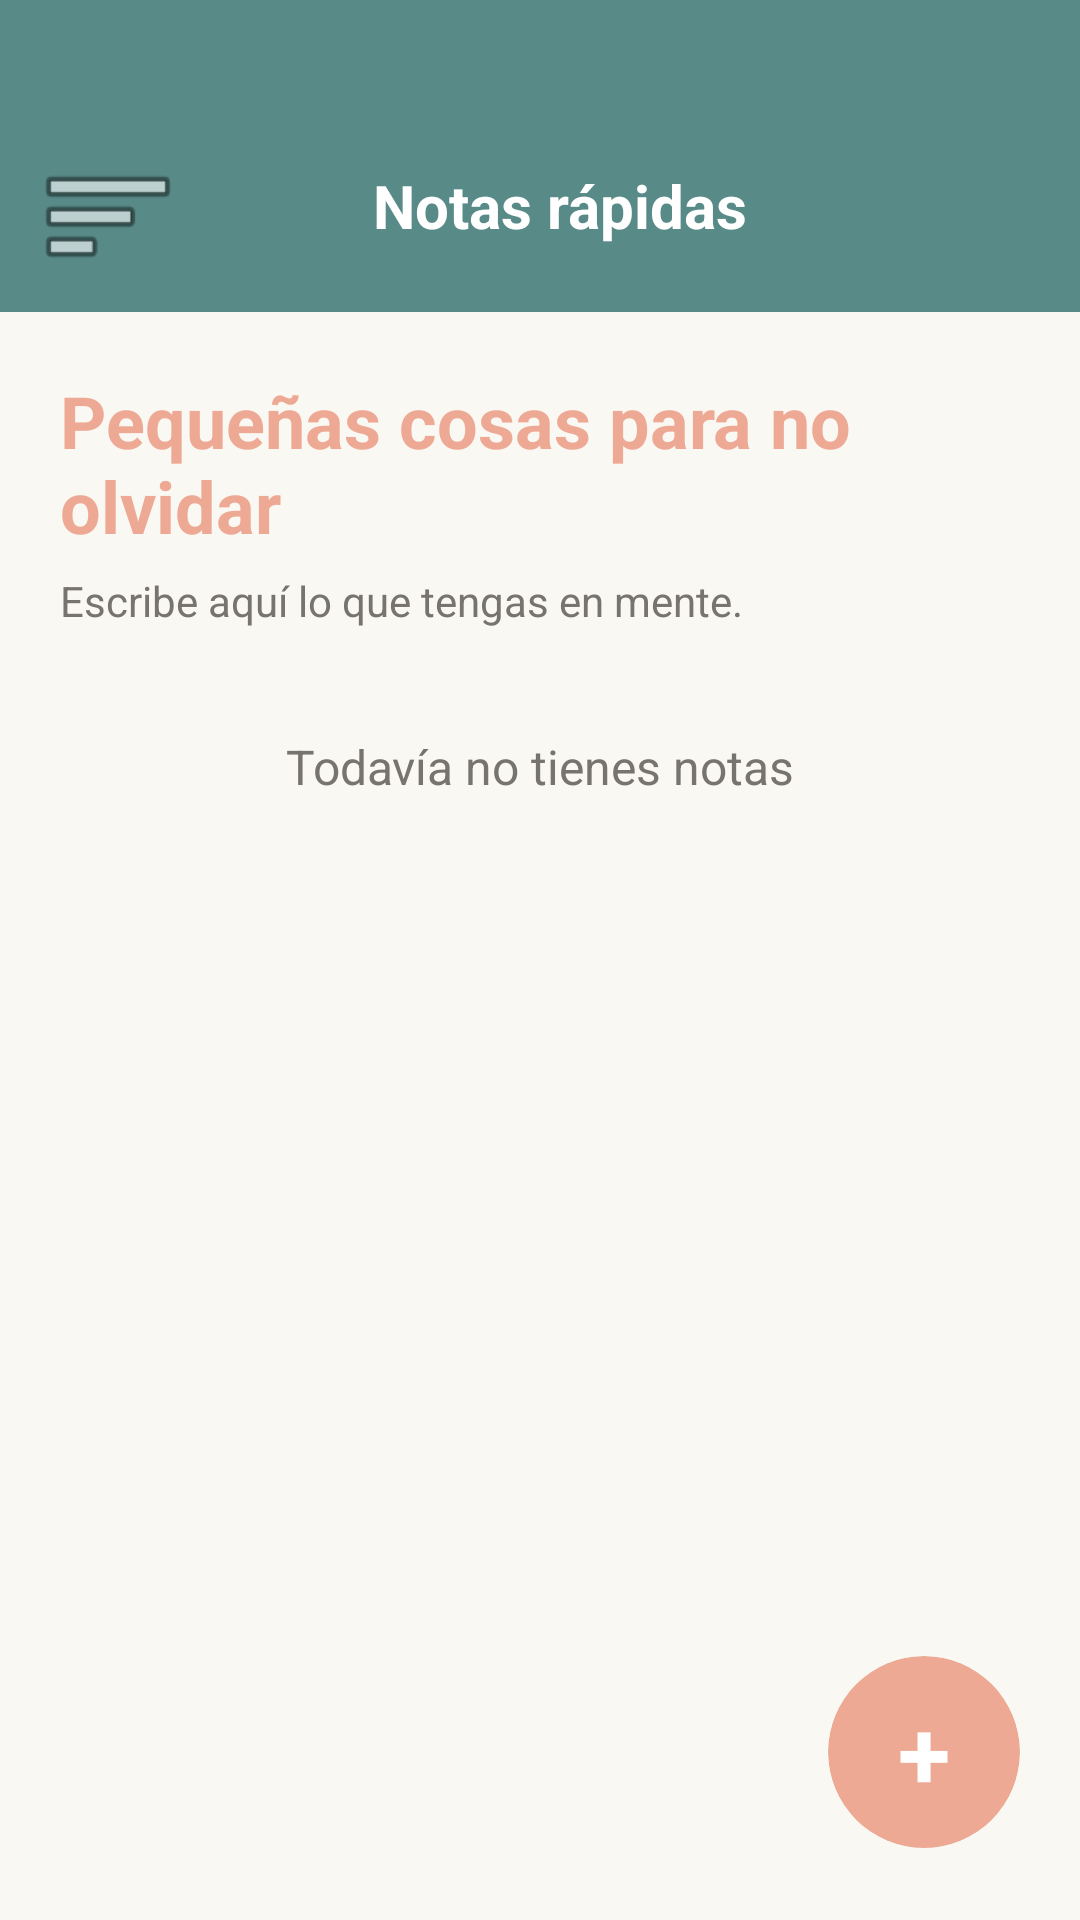

Locate icon controls on the screen. Image size 1080*1920, boxes as (x1, y1, x2, y2).
Abrir menú: (46, 177, 170, 257)
